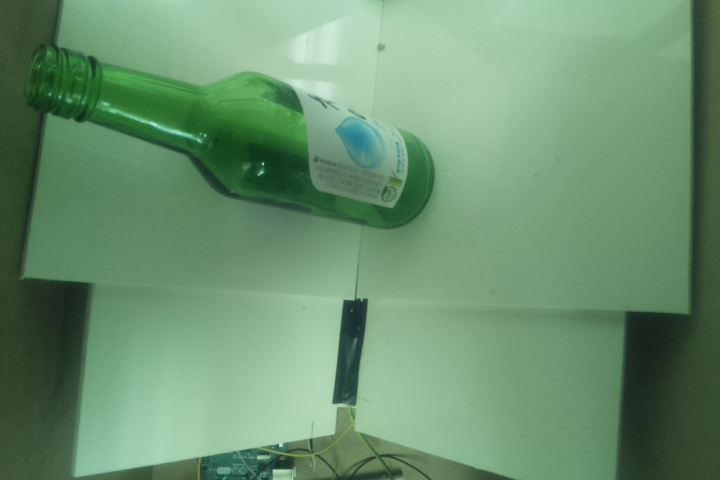soju: (23, 39, 438, 231)
